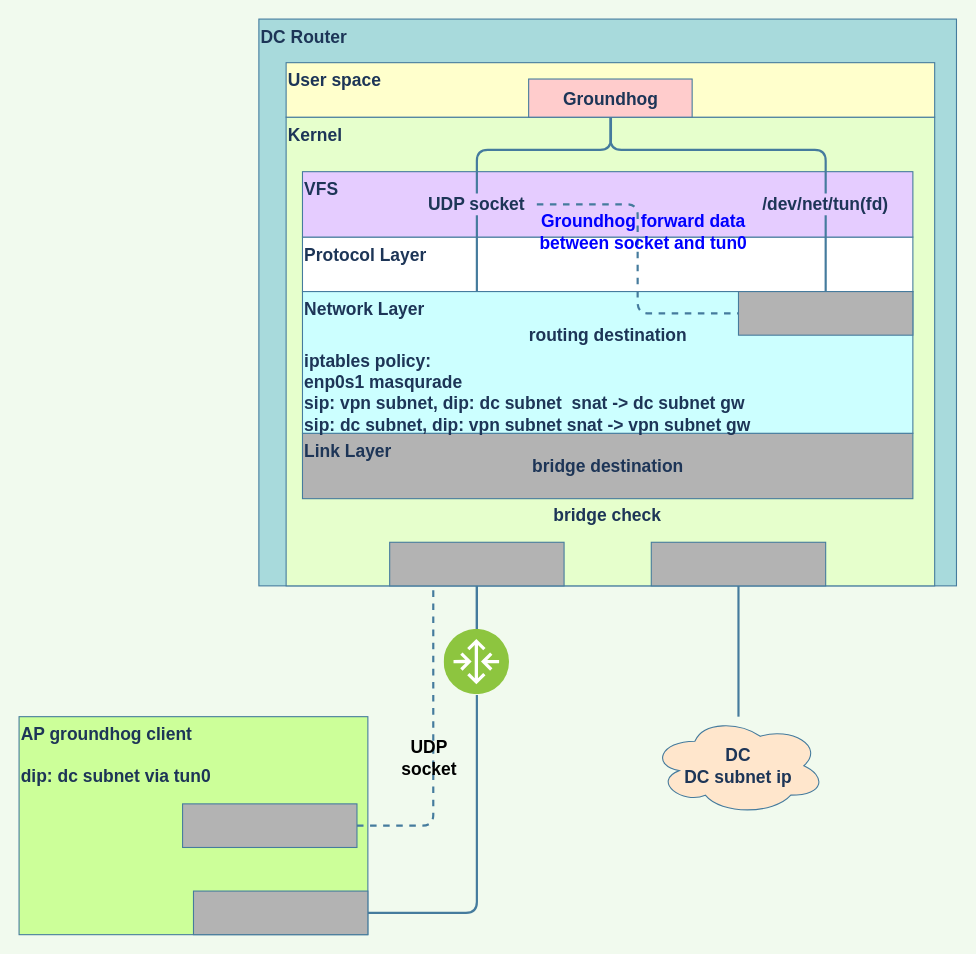
Some shapes in this 976 by 954 pixel diagram are drawn without their labels. The centre of each missing label's shape, as x and y in pixels:
"enp0s1 pub ip" goes at [476,563].
"enp0s2 DC subnet Gateway" goes at [738,563].
"enp0s3" goes at [280,912].
"tun0 vpn subnet gateway" goes at [825,312].
"tun0 vpn subnet ip" goes at [269,825].
